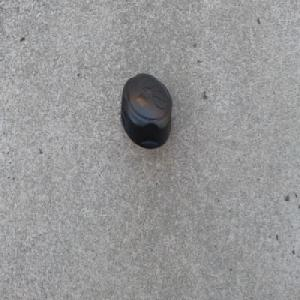FuelCap: (119, 71, 172, 150)
